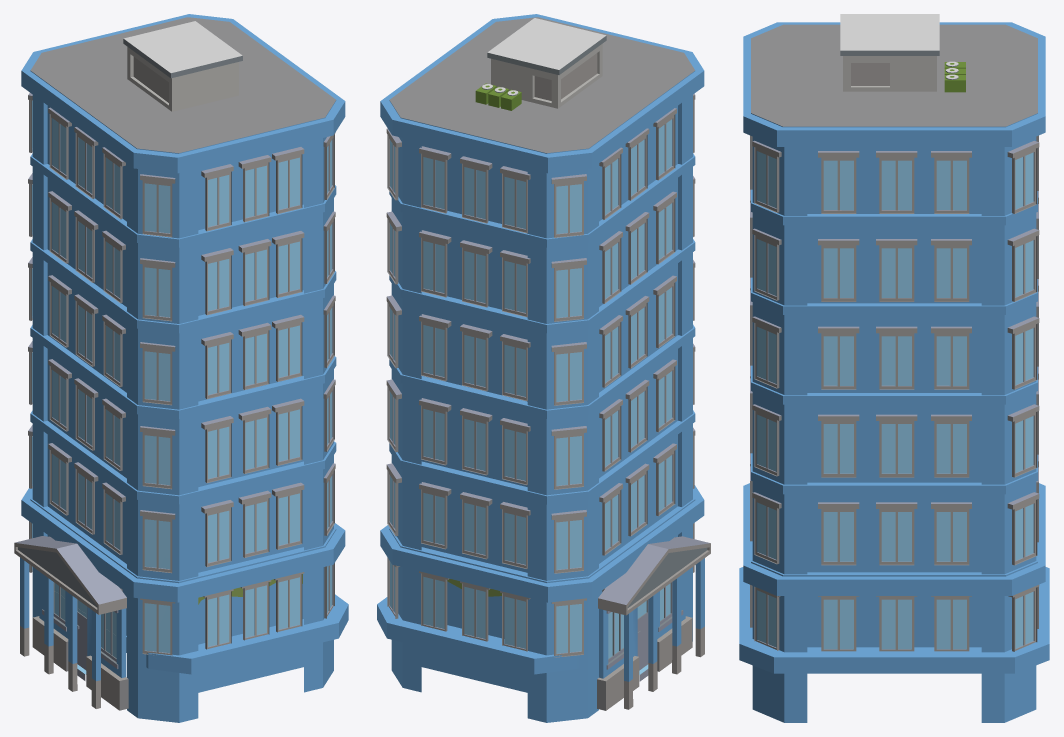
Rendered from putong_zhongxing10.fbx.
The picture shows the model from 3 angles, left to right: view 1: azimuth 30°, elevation 25°; view 2: azimuth 150°, elevation 25°; view 3: azimuth 270°, elevation 25°; orthographic projection. The views are drawn at different scales.
Parts seen in each view (by area): view 1: putong_zhongxing10; view 2: putong_zhongxing10; view 3: putong_zhongxing10.
Part boxes in pixels (box(x1,y1,x2,y2)): putong_zhongxing10: box(14, 14, 348, 722); putong_zhongxing10: box(377, 14, 710, 722); putong_zhongxing10: box(739, 14, 1049, 722).
Size of the model in its own units: 399 by 437 by 993.
